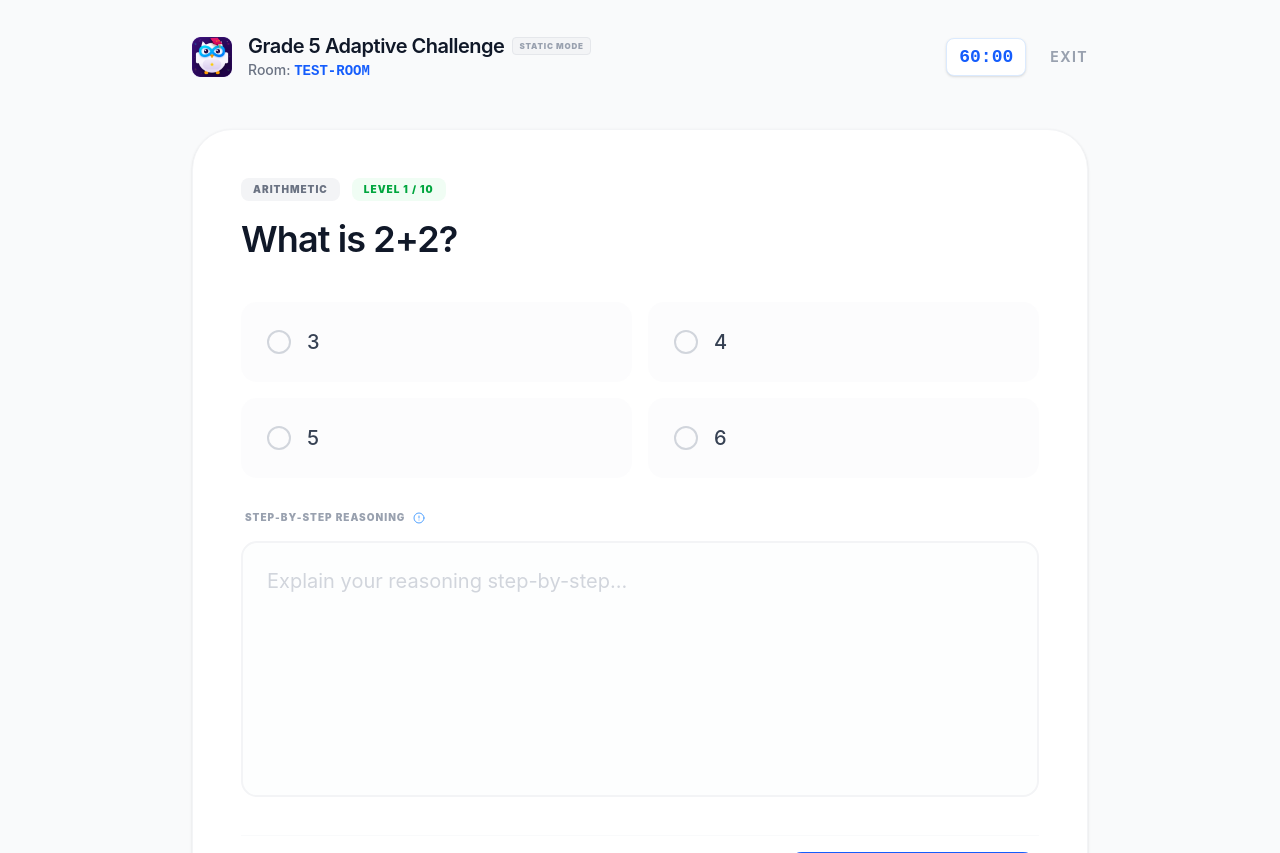
Test case: TestPage Timer Toggle › toggles timer visibility when clicked
This screenshot has width=1280, height=853.
# Click to hide
Click the text "60:00" at (986, 56), box [946,38,1026,76]
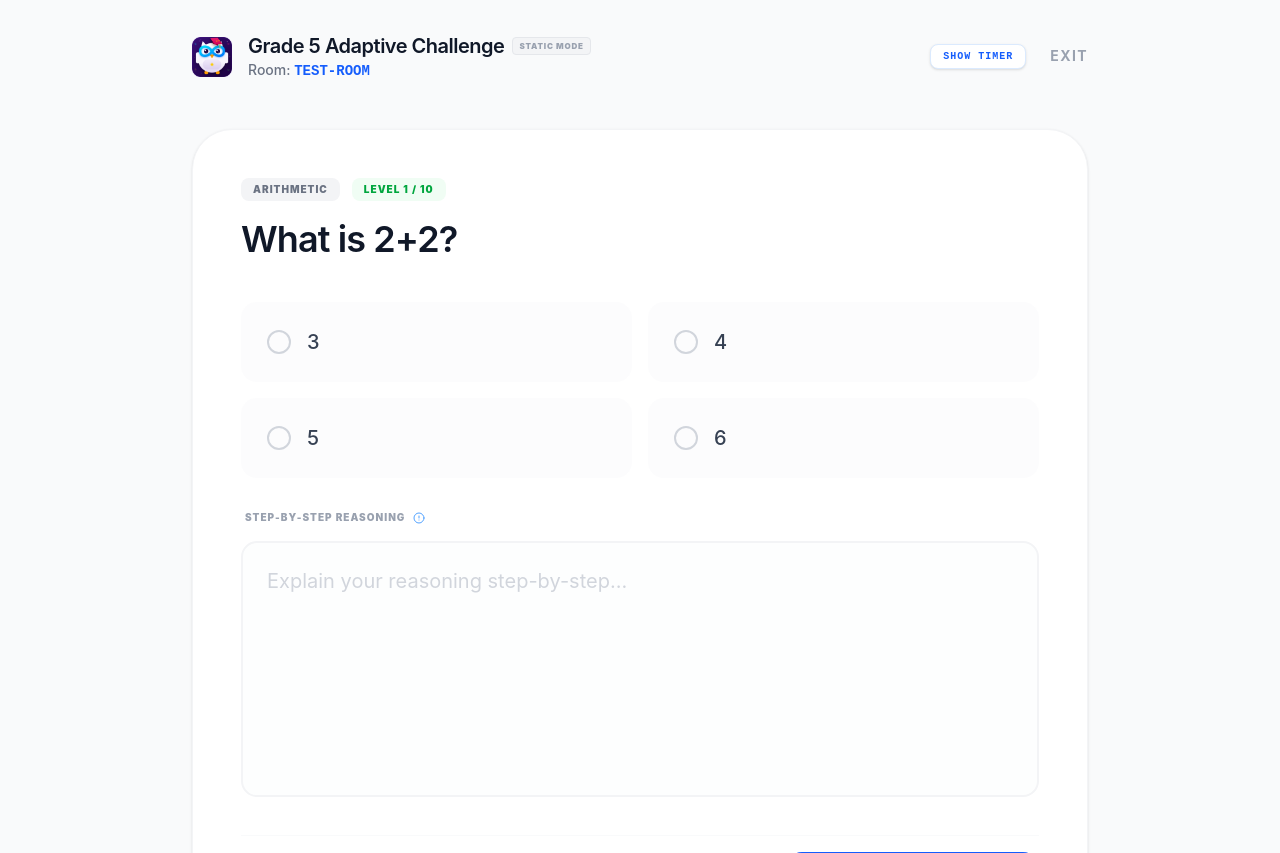
Check: the text "60:00" is gone
Check: the text "Show Timer" is shown, box [943,49,1013,64]
# Click to show again
Click the text "60:00" at (978, 56), box [930,44,1026,69]
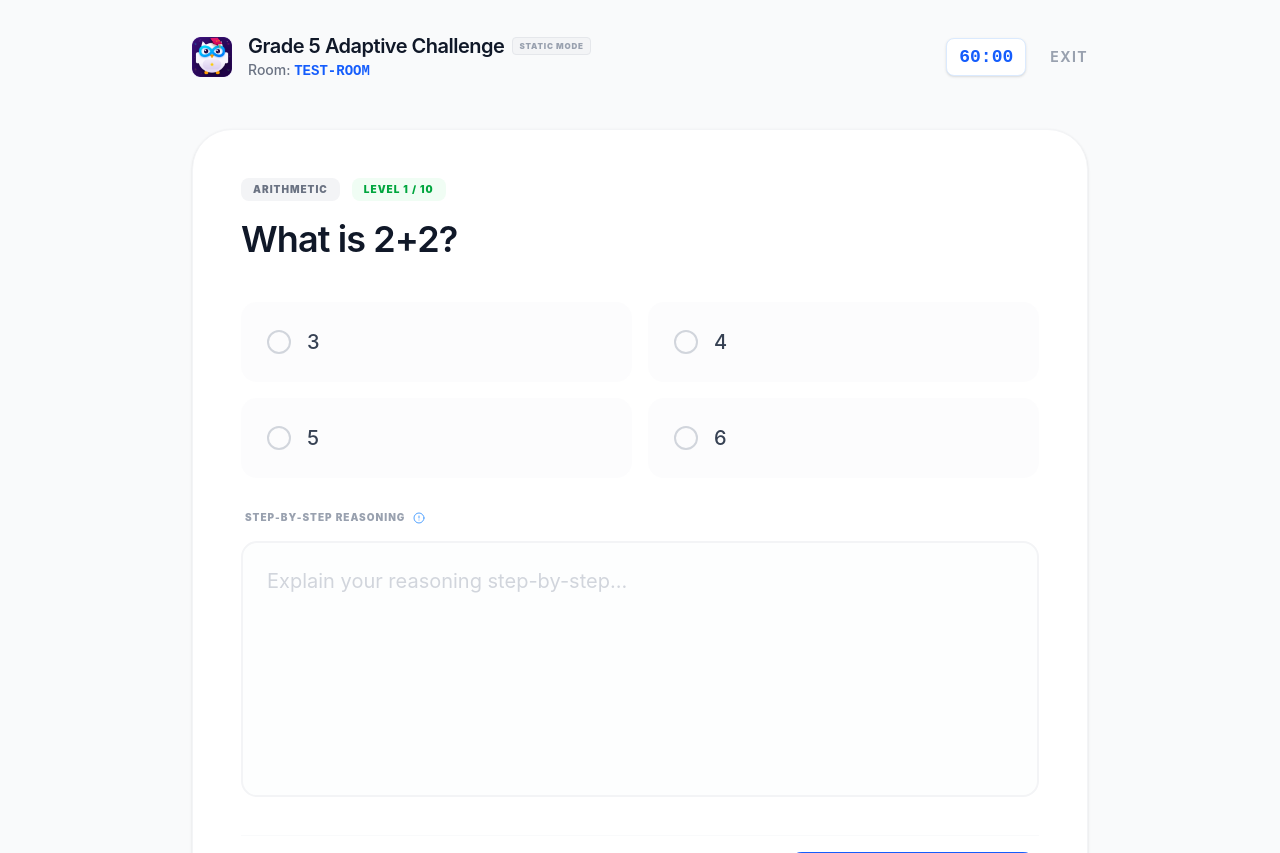
Check: the text "60:00" is shown, box [946,38,1026,76]
Check: the text "Show Timer" is gone
